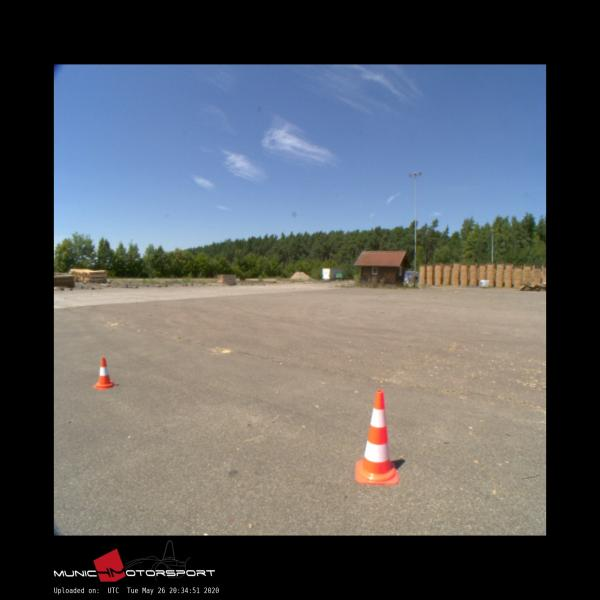large_orange_cone: (355, 390, 398, 484)
orange_cone: (92, 357, 117, 389)
